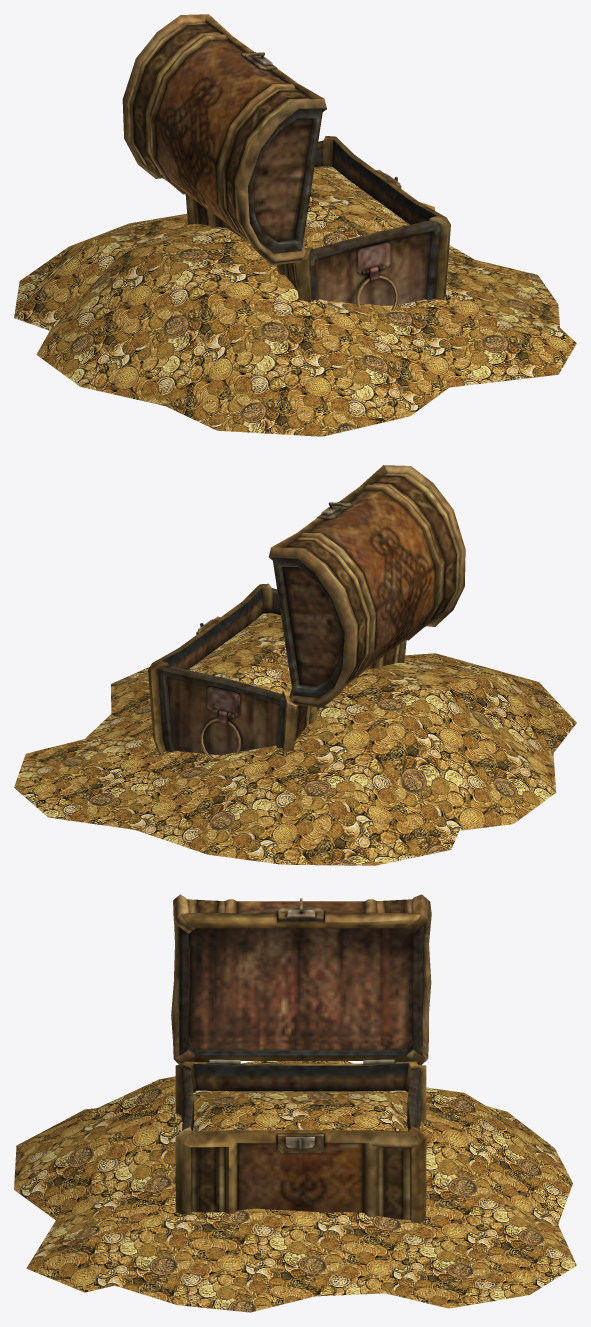
The model's file is Model_Chest_01.fbx.
3 views of the same model, one above another, from view 1: azimuth 30°, elevation 25°; view 2: azimuth 150°, elevation 25°; view 3: azimuth 270°, elevation 25° (orthographic). The views are drawn at different scales.
Parts seen in each view (by area): view 1: Chest_01; view 2: Chest_01; view 3: Chest_01.
Boxes of the visible parts, left/top/right/bottom form: Chest_01: left=14, top=14, right=576, bottom=436; Chest_01: left=14, top=465, right=576, bottom=865; Chest_01: left=14, top=894, right=576, bottom=1312.
Bounding box in the file's own units: 425 × 238 × 434.
